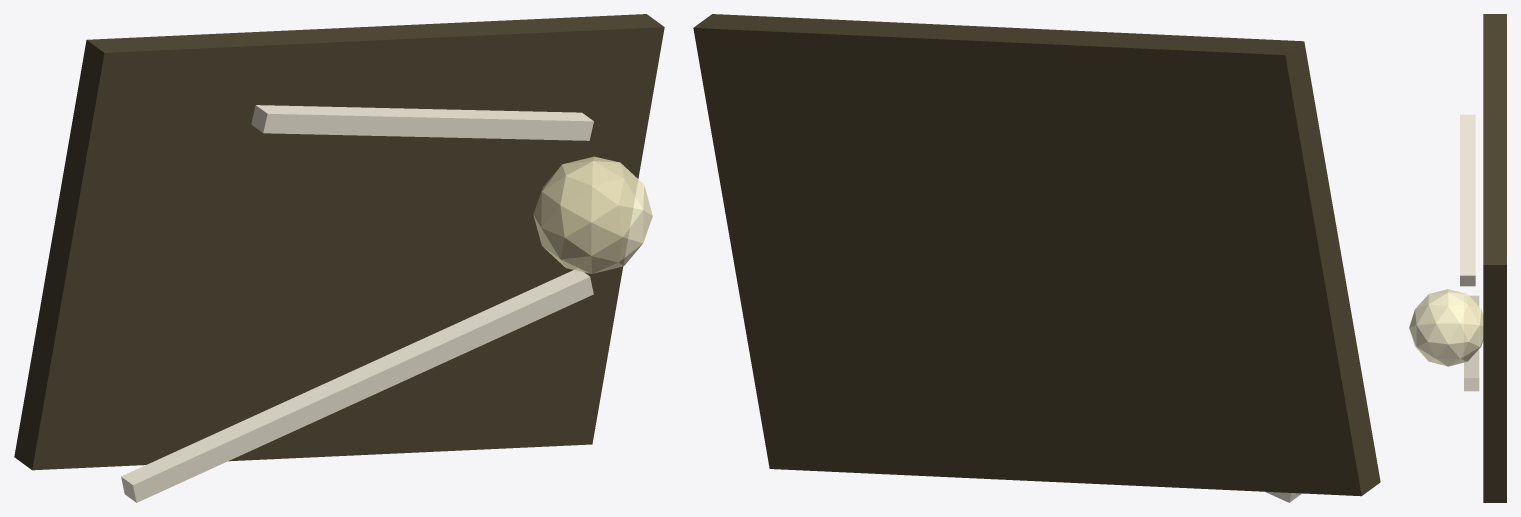
The model's file is 02_world_prop_polish.glb.
3 views of the same model, side by side, from view 1: azimuth 30°, elevation 25°; view 2: azimuth 150°, elevation 25°; view 3: azimuth 270°, elevation 25° (orthographic). The views are drawn at different scales.
Parts seen in each view (by area): view 1: object_overlay_plate, edge_wear_a, glow_socket, edge_wear_b; view 2: object_overlay_plate; view 3: object_overlay_plate, glow_socket, edge_wear_b, edge_wear_a.
Boxes of the visible parts, left/top/right/bottom form: object_overlay_plate: left=14, top=14, right=664, bottom=470; edge_wear_a: left=121, top=269, right=593, bottom=502; glow_socket: left=533, top=156, right=652, bottom=273; edge_wear_b: left=251, top=105, right=593, bottom=140; object_overlay_plate: left=693, top=14, right=1380, bottom=496; object_overlay_plate: left=1483, top=14, right=1506, bottom=502; glow_socket: left=1409, top=289, right=1483, bottom=366; edge_wear_b: left=1460, top=114, right=1475, bottom=286; edge_wear_a: left=1464, top=295, right=1479, bottom=391.
Bounding box in the file's own units: 1.22 × 0.9414 × 0.25.
